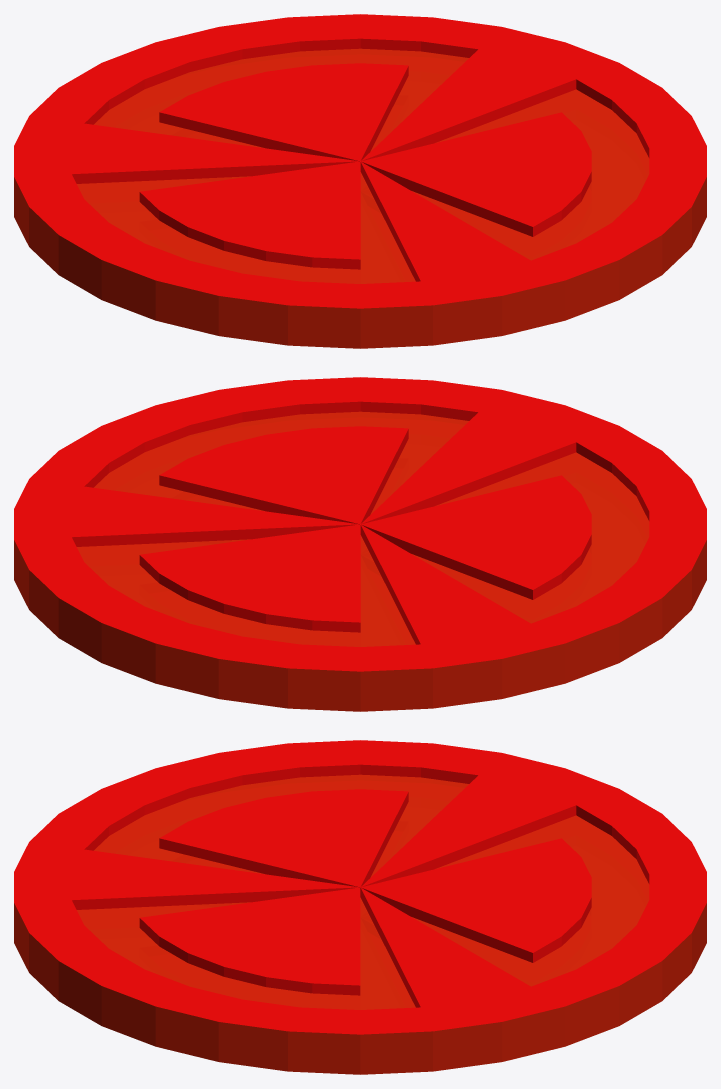
The model's file is Tomato.fbx.
3 views of the same model, one above another, from view 1: azimuth 30°, elevation 25°; view 2: azimuth 150°, elevation 25°; view 3: azimuth 270°, elevation 25° (orthographic).
Parts seen in each view (by area): view 1: pCylinder1; view 2: pCylinder1; view 3: pCylinder1.
Part boxes in pixels (<box>): pCylinder1: <box>14,14,706,348</box>; pCylinder1: <box>14,377,706,711</box>; pCylinder1: <box>14,740,706,1074</box>.
Size of the model in its own units: 11 by 0.7 by 10.94.
